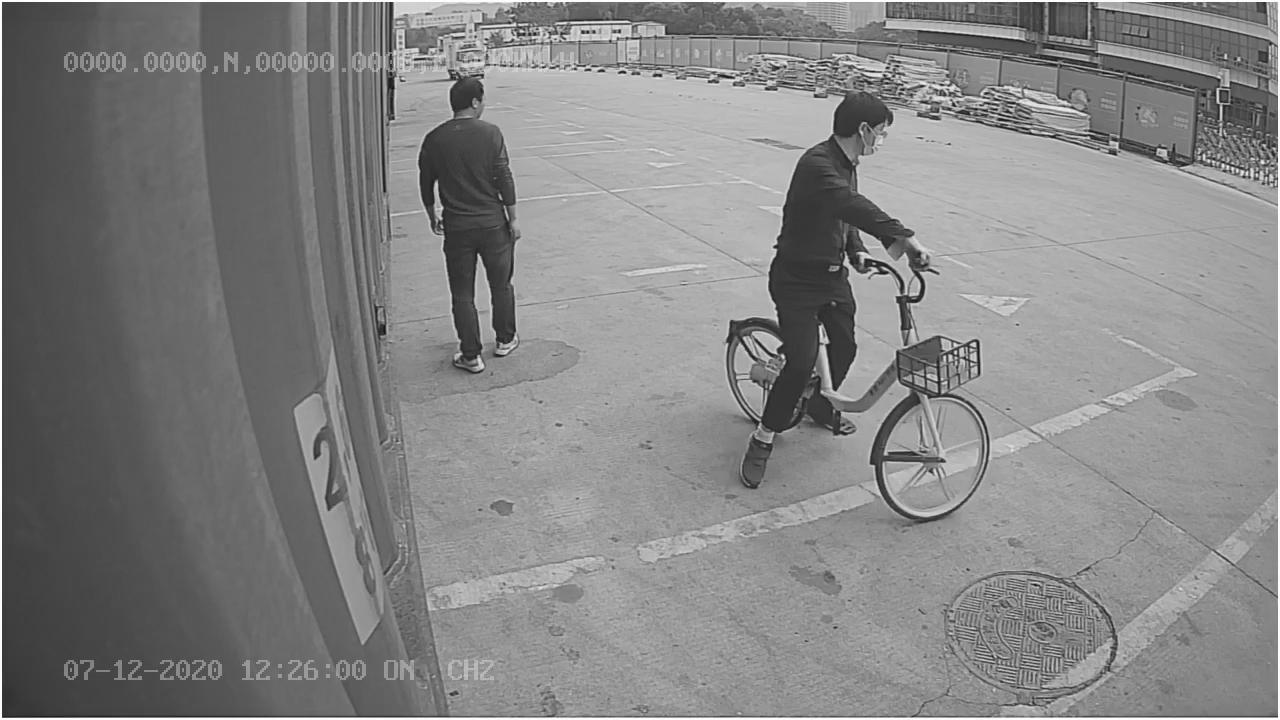person: (411, 75, 527, 375)
